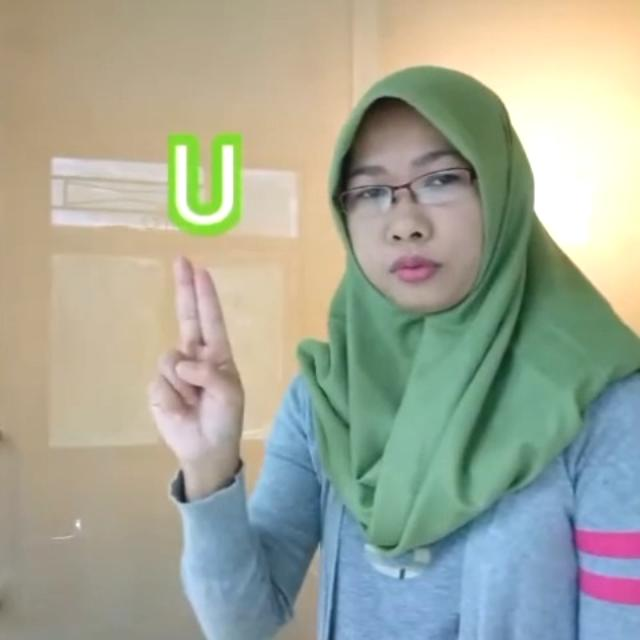U: (142, 248, 250, 458)
